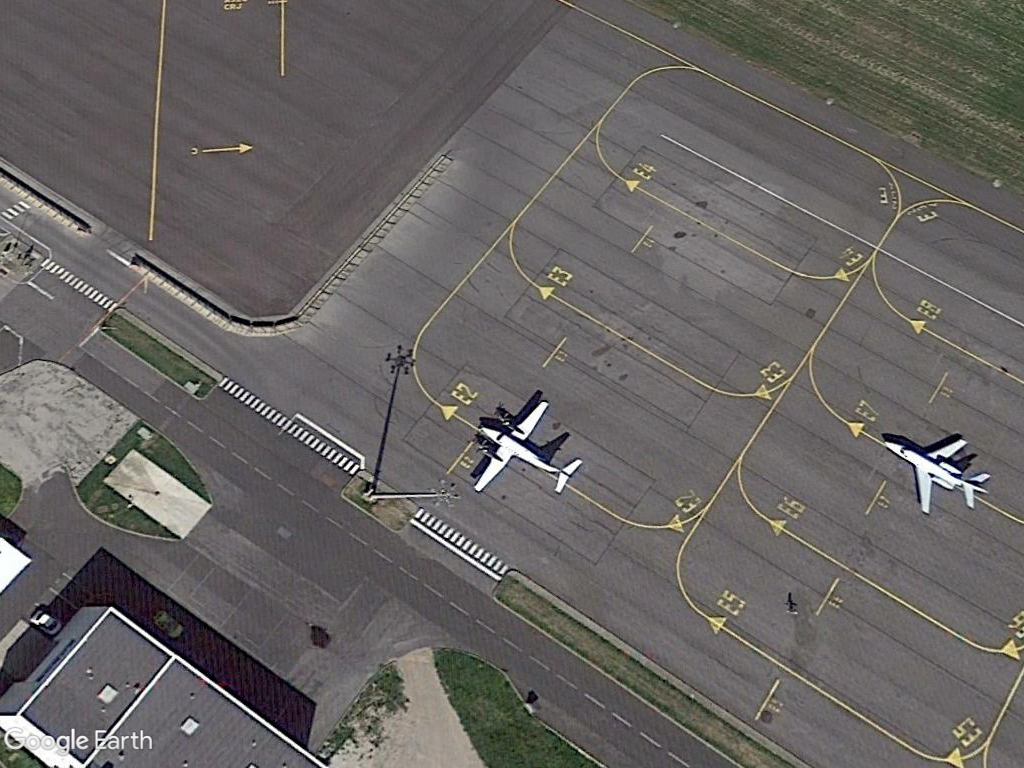chartered: (877, 433, 998, 521)
